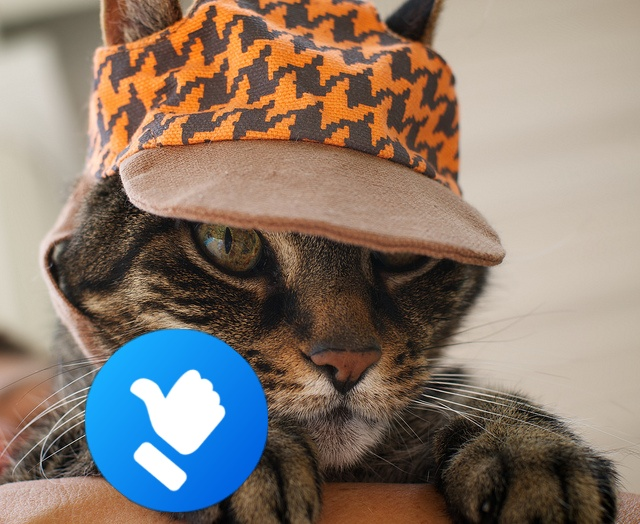like: (85, 329, 268, 512)
